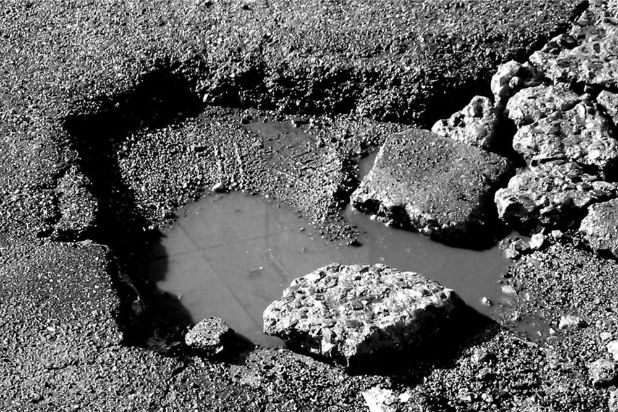pothole: (53, 46, 560, 395)
